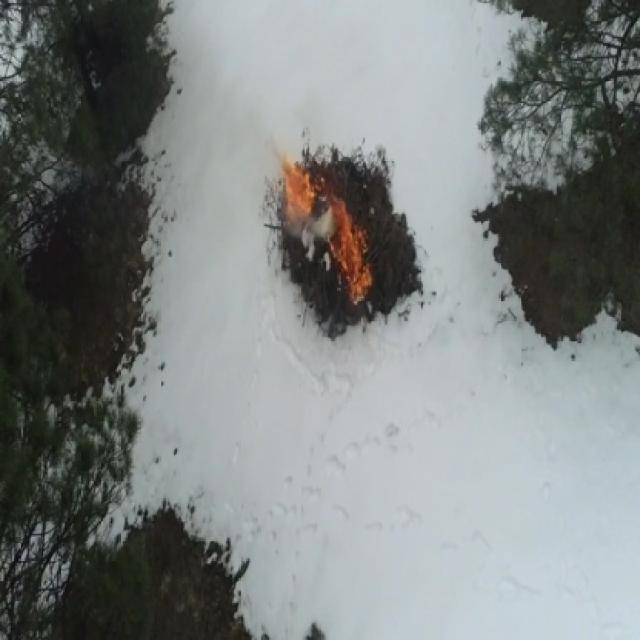Fire: (286, 171, 312, 215), (350, 226, 366, 271), (332, 218, 348, 255), (347, 269, 372, 288), (331, 195, 347, 218), (352, 276, 364, 302), (339, 256, 360, 270), (282, 159, 296, 176), (316, 180, 324, 190)
